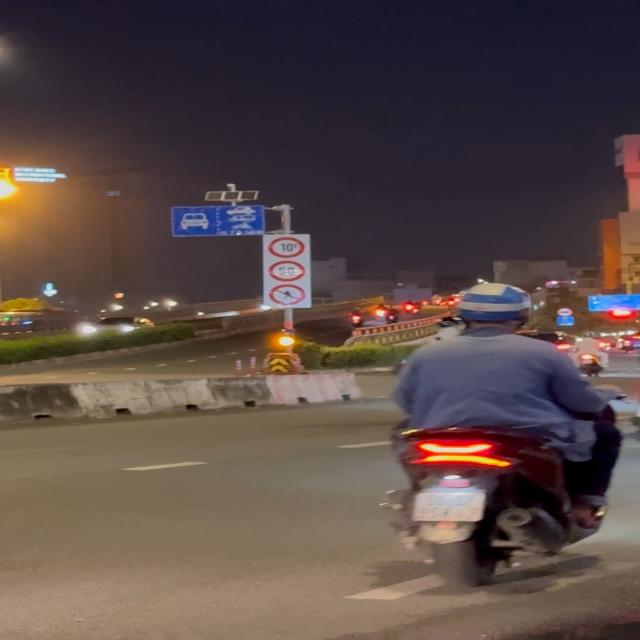Bien bao cam nguoi di bo: (267, 283, 306, 307)
Bien bao toc do toi da cho phep: (267, 260, 305, 281)
